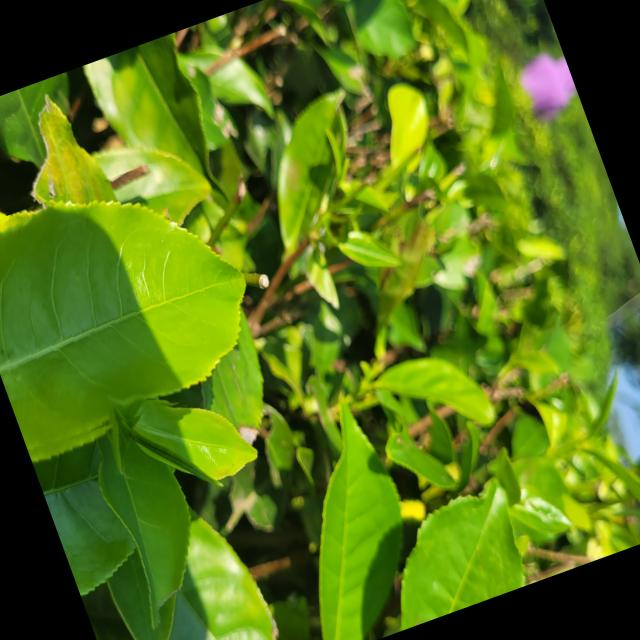Catagory A(1-2 days): (0, 143, 288, 462)
